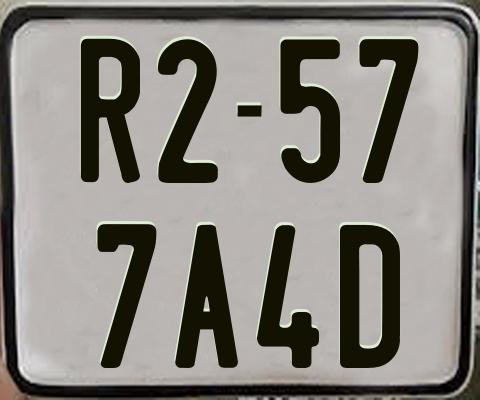2: (155, 36, 217, 181)
4: (256, 223, 322, 366)
5: (280, 38, 345, 182)
7: (97, 221, 159, 369), (359, 38, 418, 185)
A: (174, 224, 243, 373)
D: (340, 224, 404, 371)
R: (80, 37, 143, 186)
